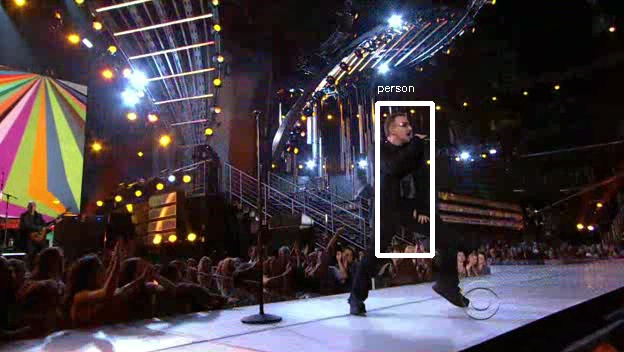person: (368, 114, 439, 244), (365, 114, 436, 244), (371, 114, 442, 244), (368, 111, 439, 241), (368, 117, 439, 247)
target_negative: (96, 29, 258, 335), (314, 30, 542, 208), (361, 81, 511, 121), (442, 63, 538, 114), (562, 330, 622, 347), (178, 297, 182, 318)
